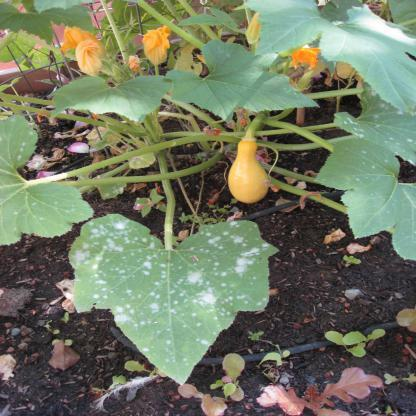Squash Powdery mildew leaf: (67, 211, 275, 383), (0, 112, 92, 233), (324, 140, 416, 252), (328, 109, 416, 167)
